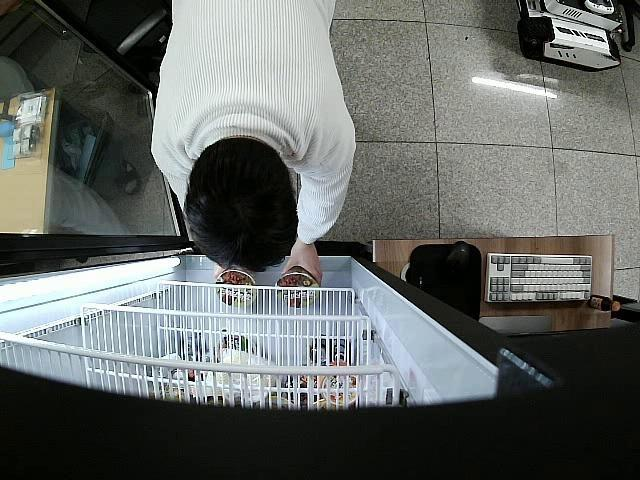03_chapagetti_L: (276, 270, 321, 310)
